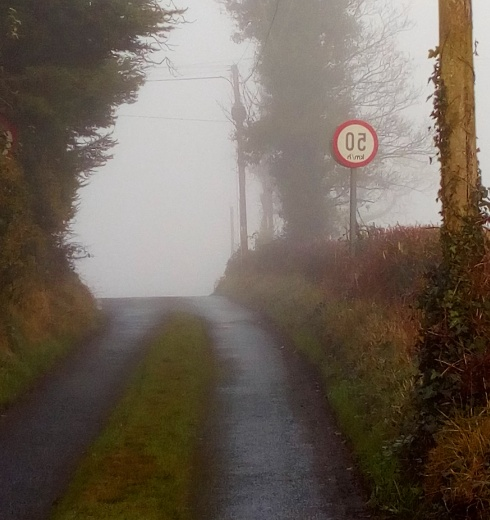Speed limit: (327, 114, 381, 165)
